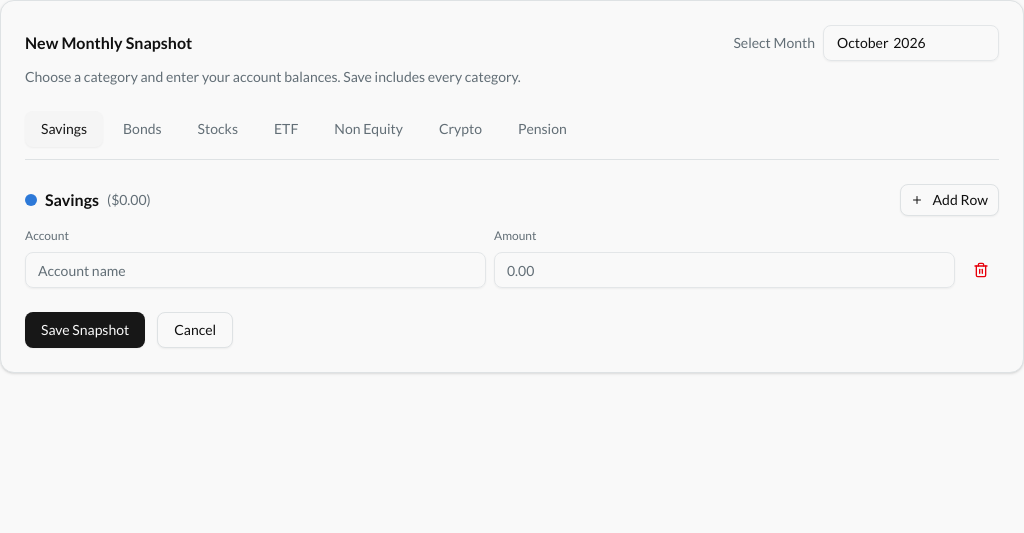
Test: does not automatically retry an uncertain create; a failed check retains the draft
expect the button "Save Snapshot" is shown: met, box [25,312,145,348]
Replace the text in the field labelled "Select Month" with "2026-03" at coordinates (911, 43), box [823,25,999,61]
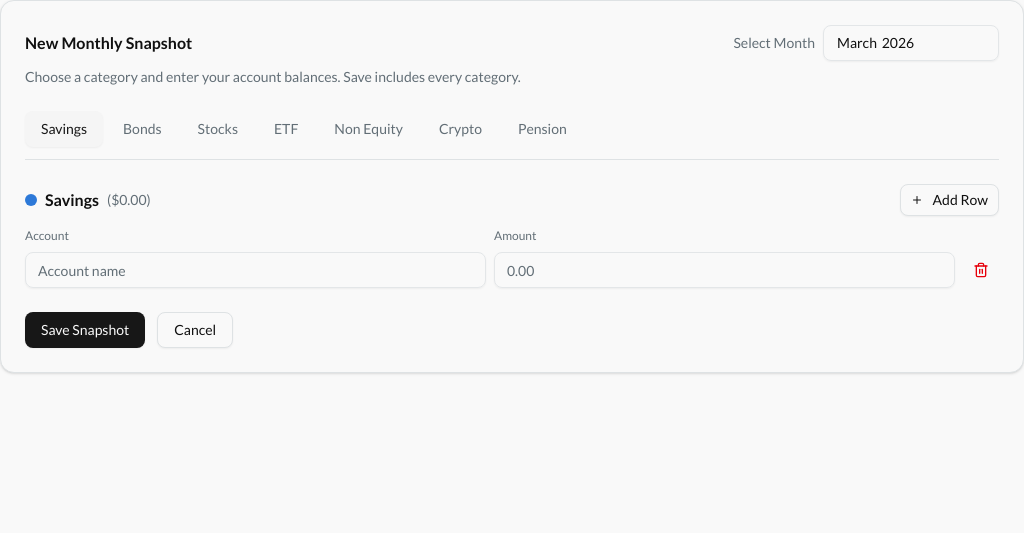
Type "123" into the number field at coordinates (724, 270), box [494,252,955,288]
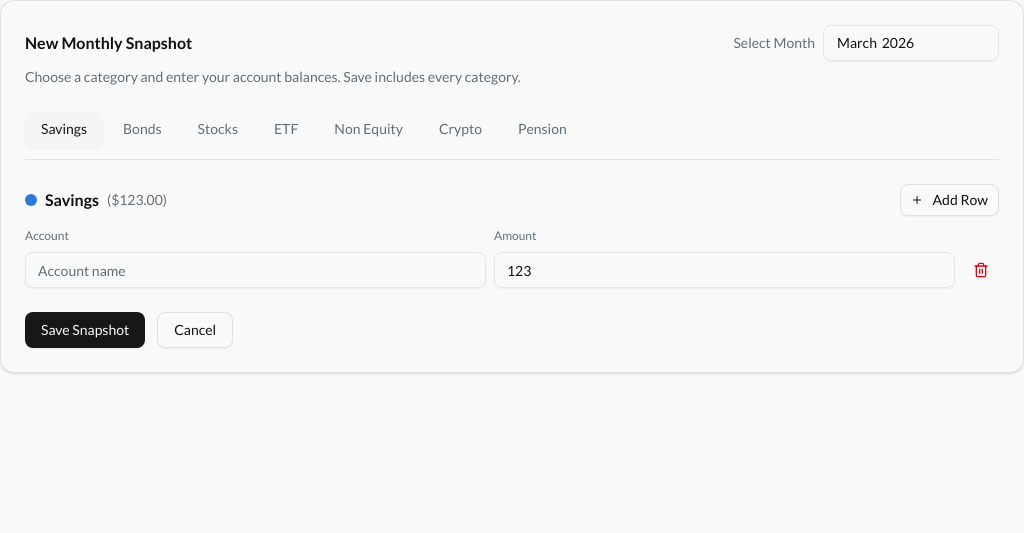
Click the button "Save Snapshot" at coordinates (85, 330), box [25,312,145,348]
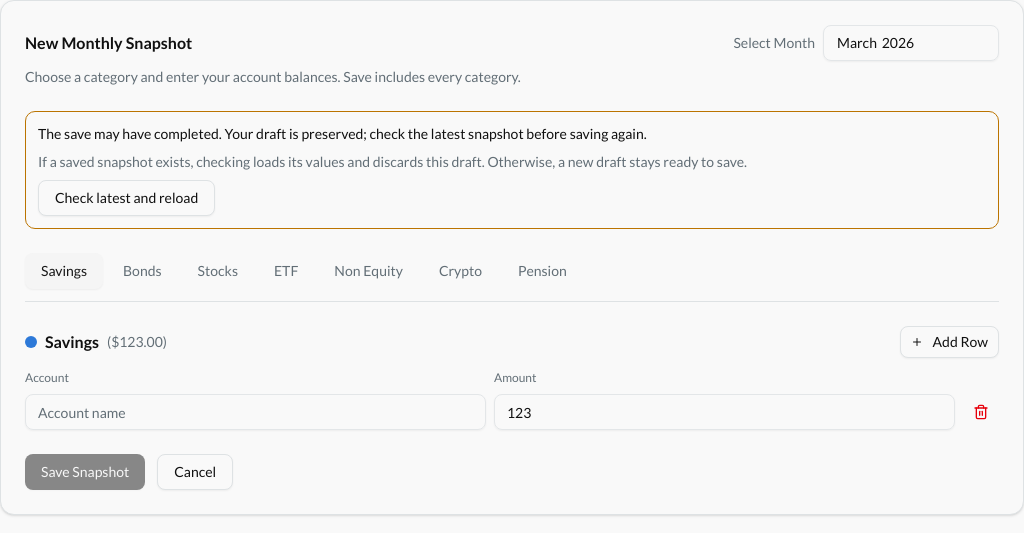
expect the message is shown: met, box [25,111,999,229]
Click the button "Check latest and reload" at coordinates (127, 198), box [38,180,215,216]
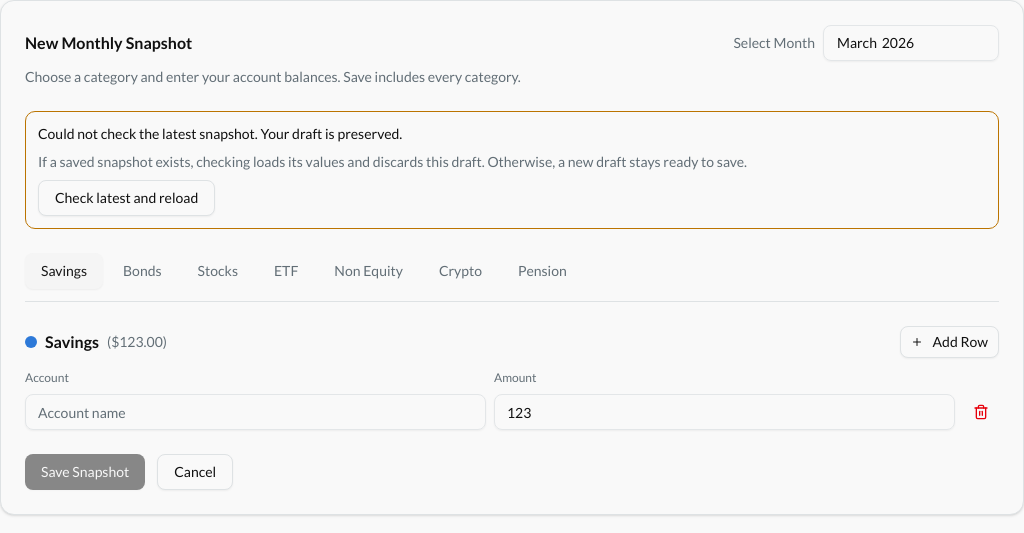
expect the button "Save Snapshot" is disabled: met, box [25,454,145,490]
expect the text "Could not check the latest snapshot. Your draft is preserved." is shown: met, box [38,125,402,142]
Click the button "Check latest and reload" at coordinates (127, 198), box [38,180,215,216]
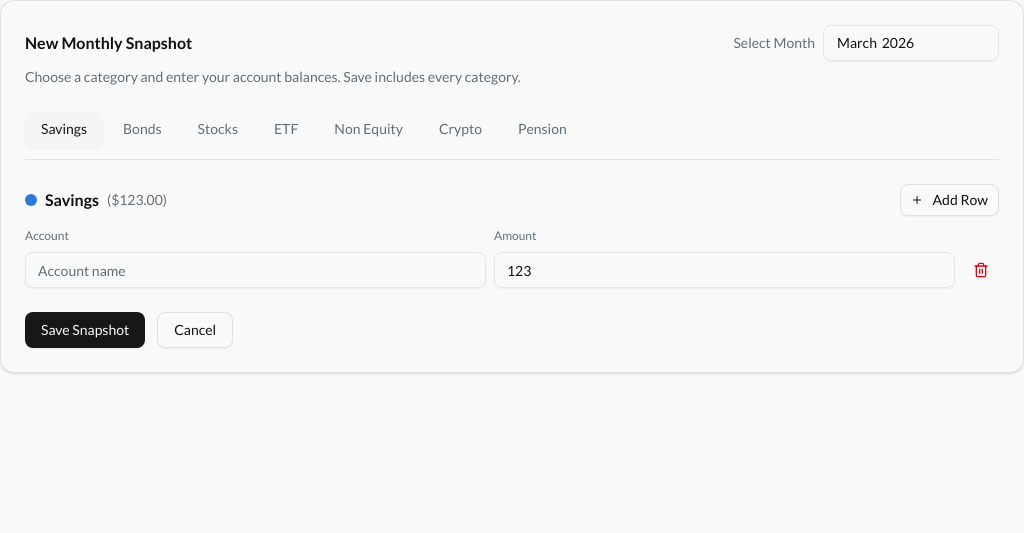
expect the message is gone: met
expect the button "Save Snapshot" is enabled: met, box [25,312,145,348]
